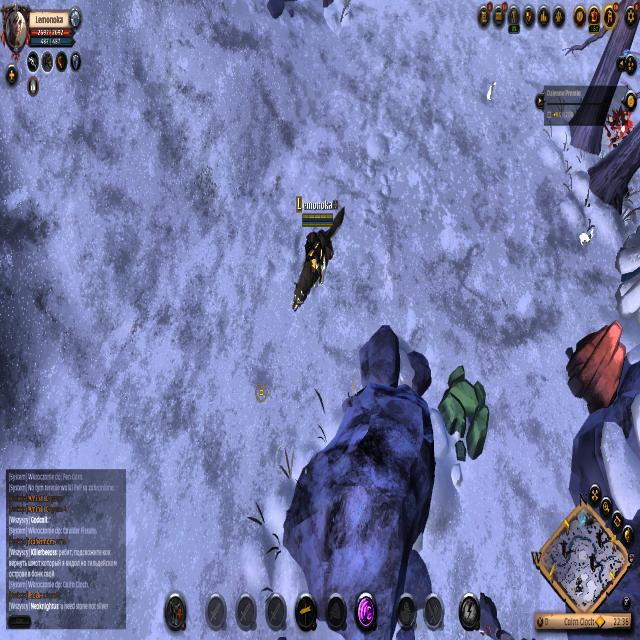rock tier 3: (438, 359, 490, 472)
rock tier 5: (567, 319, 627, 414)
